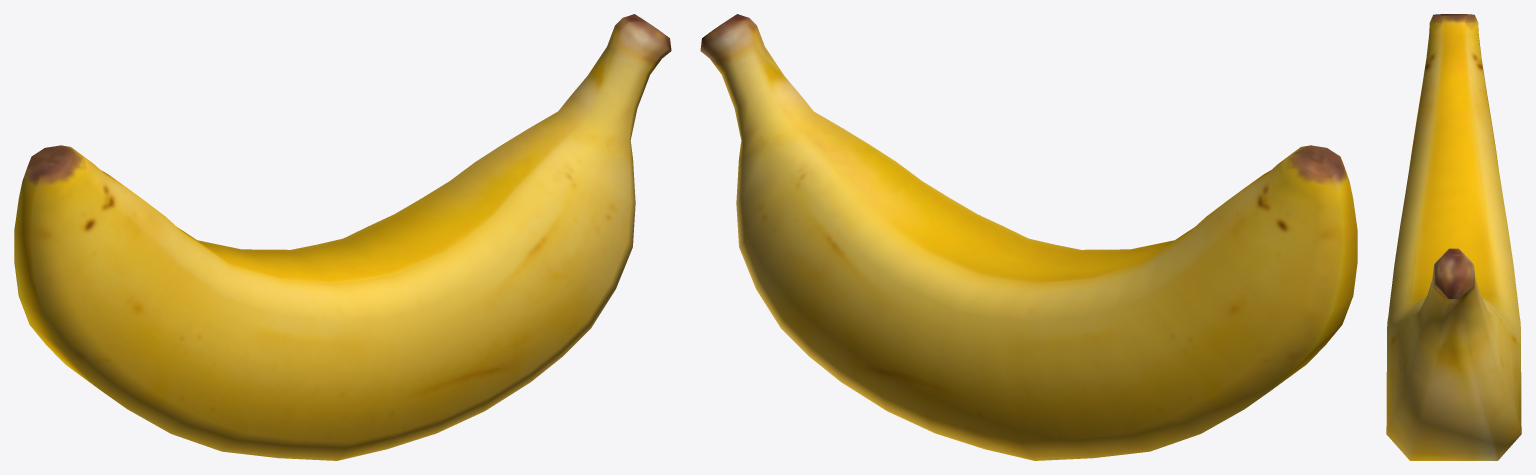
File: banana.fbx
The picture shows the model from 3 angles, left to right: view 1: azimuth 30°, elevation 25°; view 2: azimuth 150°, elevation 25°; view 3: azimuth 270°, elevation 25°; orthographic projection. The views are drawn at different scales.
Visible parts, largest first — view 1: Cube; view 2: Cube; view 3: Cube.
Part boxes in pixels (bbox=[...]): Cube: bbox=[14, 14, 671, 460]; Cube: bbox=[700, 14, 1357, 460]; Cube: bbox=[1386, 14, 1521, 460].
Bounding box in the file's own units: 23.88 × 12.41 × 5.18.
